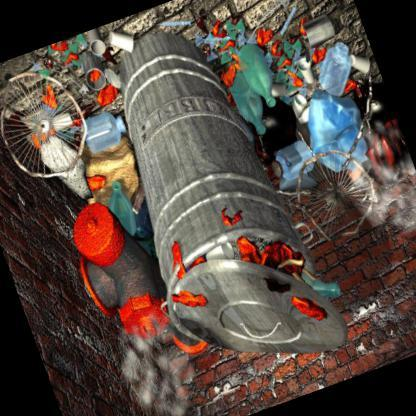Garbage: (202, 0, 379, 193), (85, 123, 143, 217)
